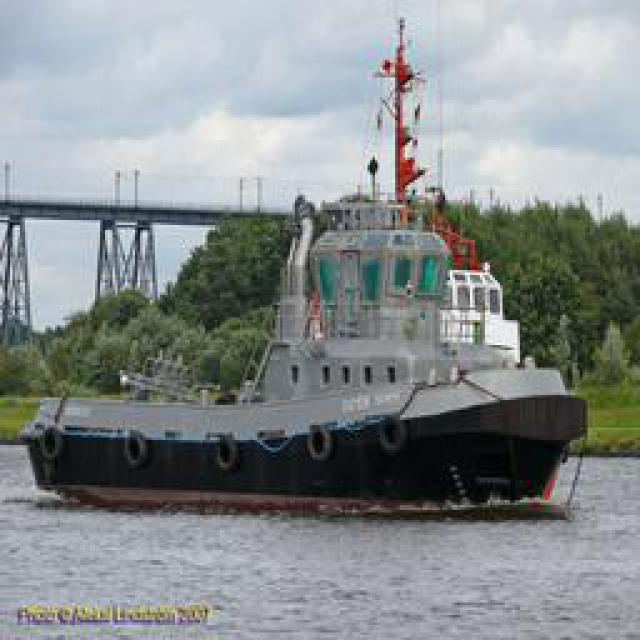Ship: (32, 71, 585, 509)
